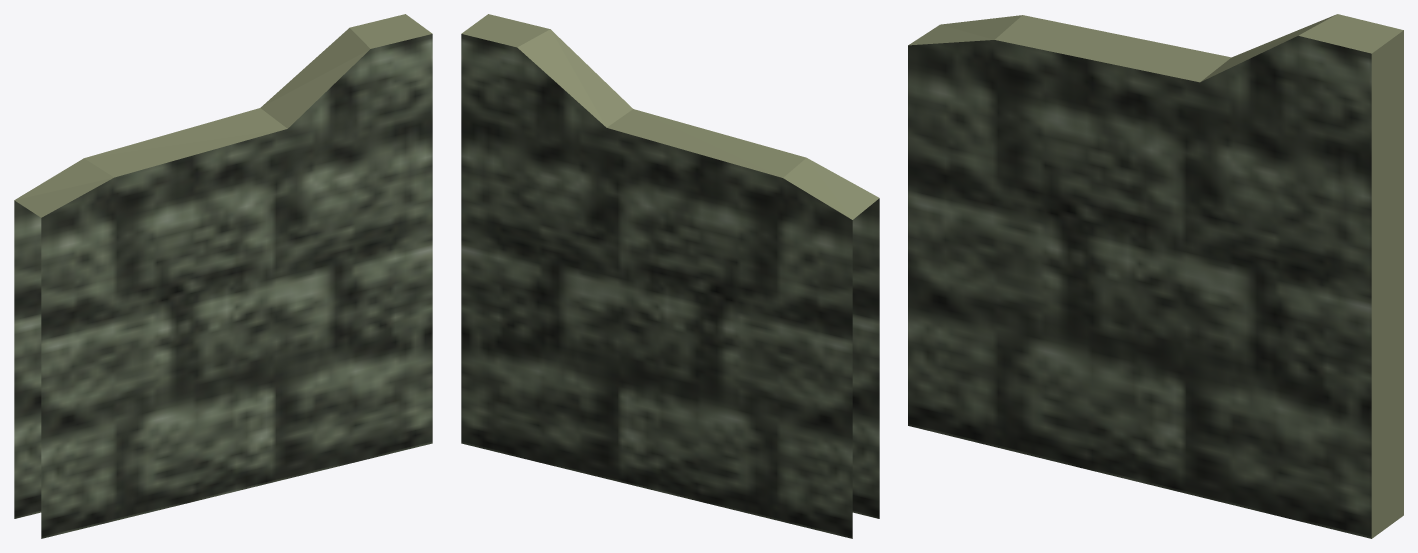
Rendered from ruins_grid_33_3.glb.
The picture shows the model from 3 angles, left to right: view 1: azimuth 30°, elevation 25°; view 2: azimuth 150°, elevation 25°; view 3: azimuth 330°, elevation 25°; orthographic projection. The views are drawn at different scales.
Visible parts, largest first — view 1: ruins_grid_33_3; view 2: ruins_grid_33_3; view 3: ruins_grid_33_3.
Part boxes in pixels (x1,y1,x2,y2): ruins_grid_33_3: (14,14,432,538); ruins_grid_33_3: (461,14,879,538); ruins_grid_33_3: (908,14,1403,538).
Size of the model in its own units: 2 by 2 by 0.24.
Materials: 2 (1 with a texture image).
